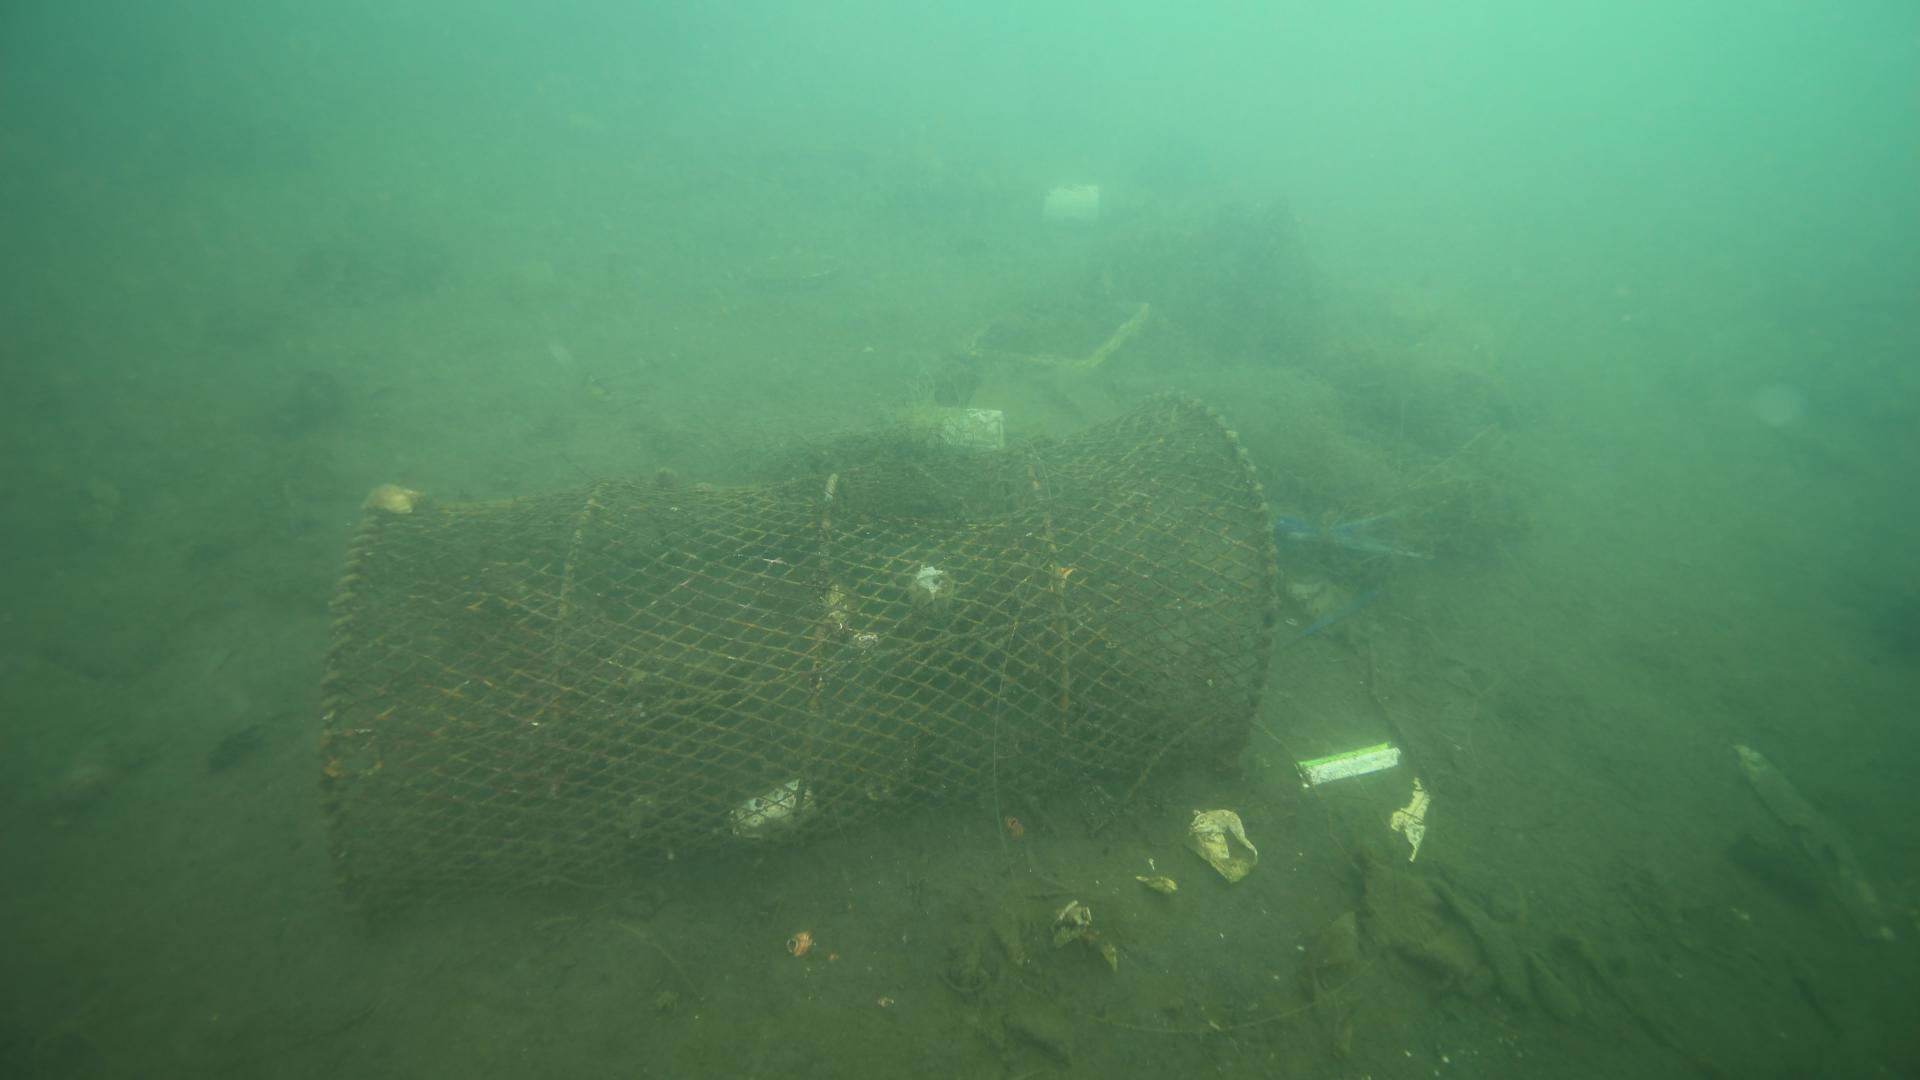spring fish trap: (313, 389, 1284, 930)
